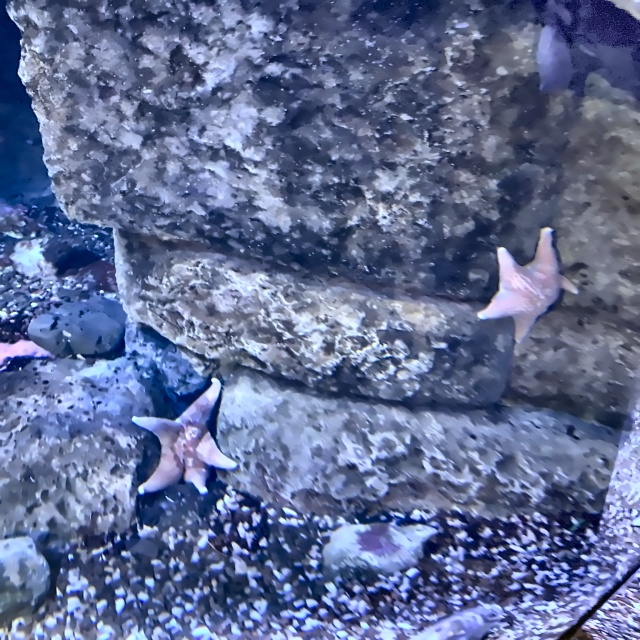starfish: (476, 228, 579, 346), (132, 379, 236, 495)
